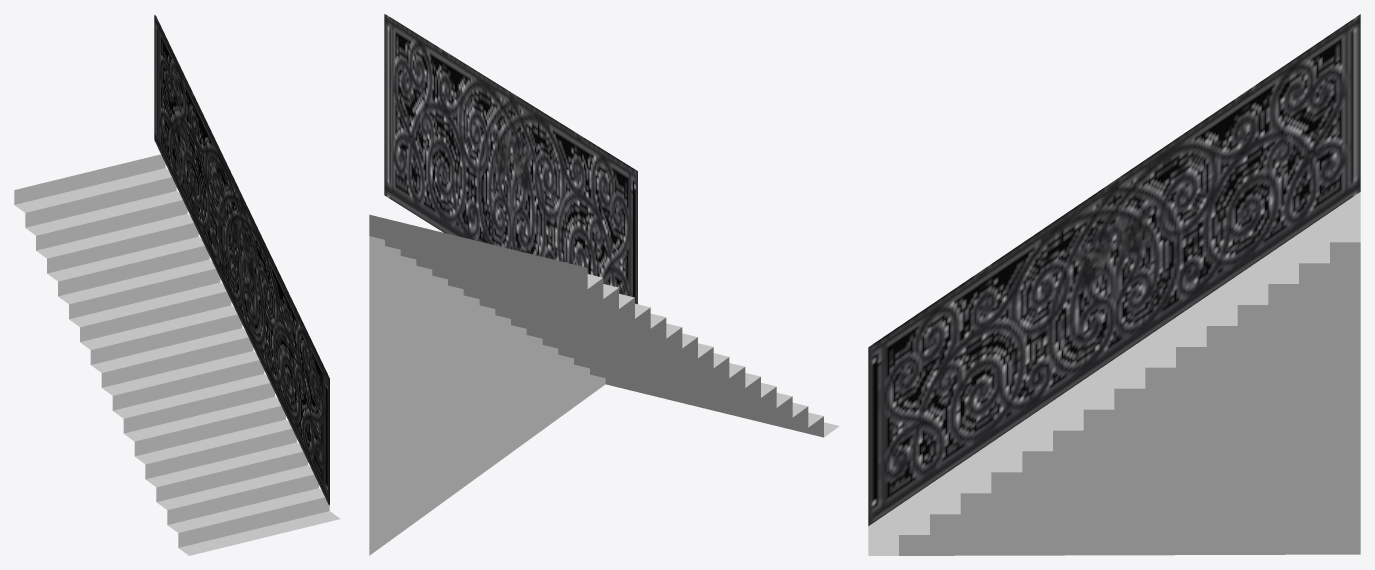
The model's file is mansion_stair_cap_right.fbx.
The picture shows the model from 3 angles, left to right: view 1: azimuth 30°, elevation 25°; view 2: azimuth 150°, elevation 25°; view 3: azimuth 270°, elevation 25°; orthographic projection. The views are drawn at different scales.
Parts seen in each view (by area): view 1: stairs_cap_left; view 2: stairs_cap_left; view 3: stairs_cap_left.
Part boxes in pixels (box(x1,y1,x2,y2)): stairs_cap_left: box(14, 15, 339, 555); stairs_cap_left: box(369, 14, 839, 555); stairs_cap_left: box(868, 14, 1360, 555).
Bounding box in the file's own units: 100 × 239 × 200.
